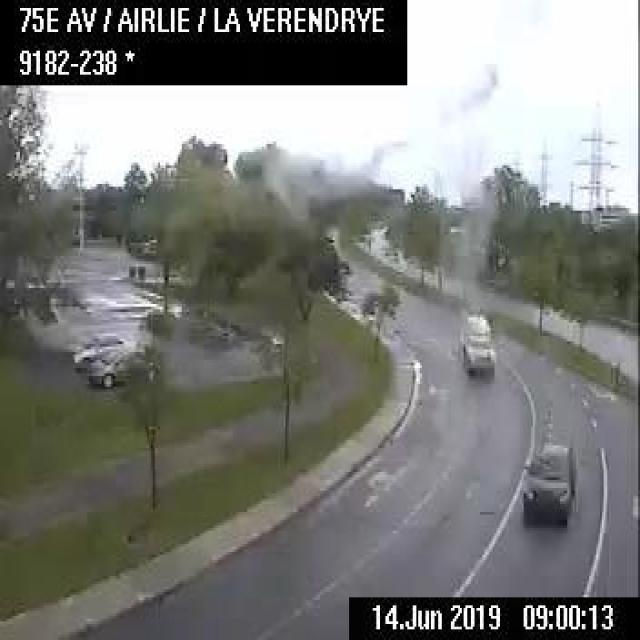vehicle: (520, 439, 577, 528), (86, 347, 158, 386), (457, 310, 496, 376), (70, 330, 132, 364)
